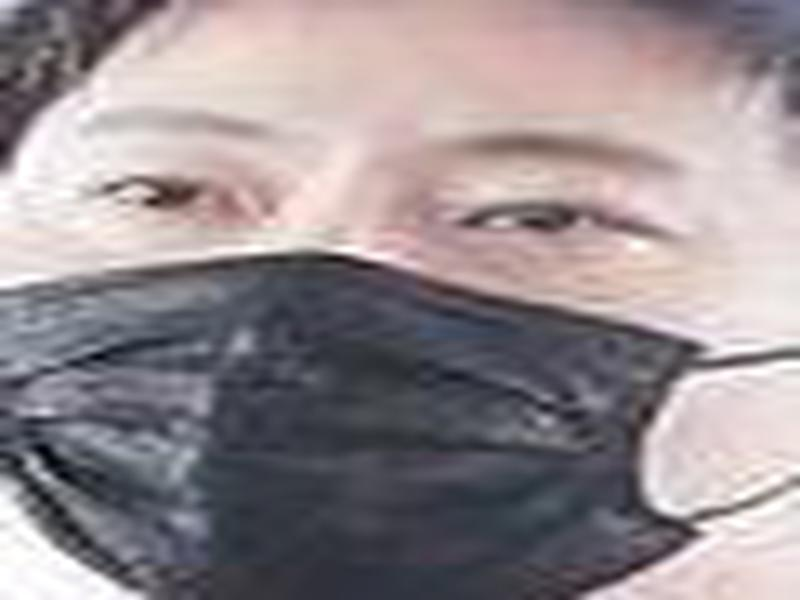with_mask: (3, 1, 800, 596)
